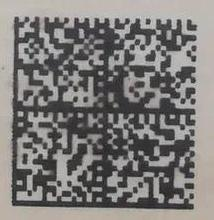datamatrix: (13, 17, 199, 210)
